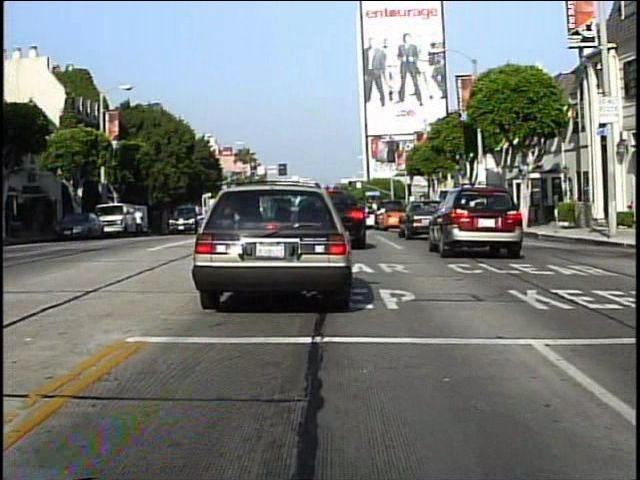person: (133, 205, 146, 239)
